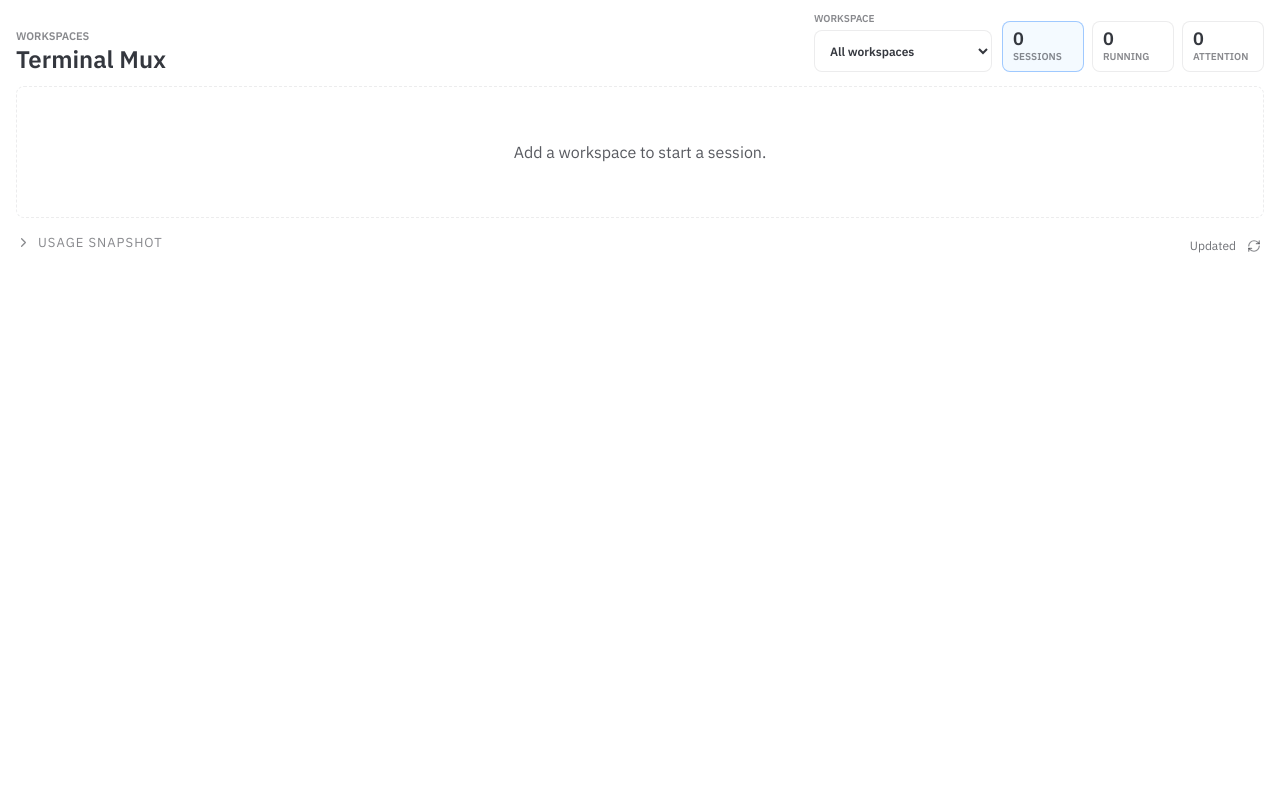
Home › renders expanded token stats and account limits
Expected: the text "Cached tokens" is not shown
Click the button with aria-label "Show usage snapshot" at coordinates (89, 242), box left=16, top=230, right=163, bottom=255
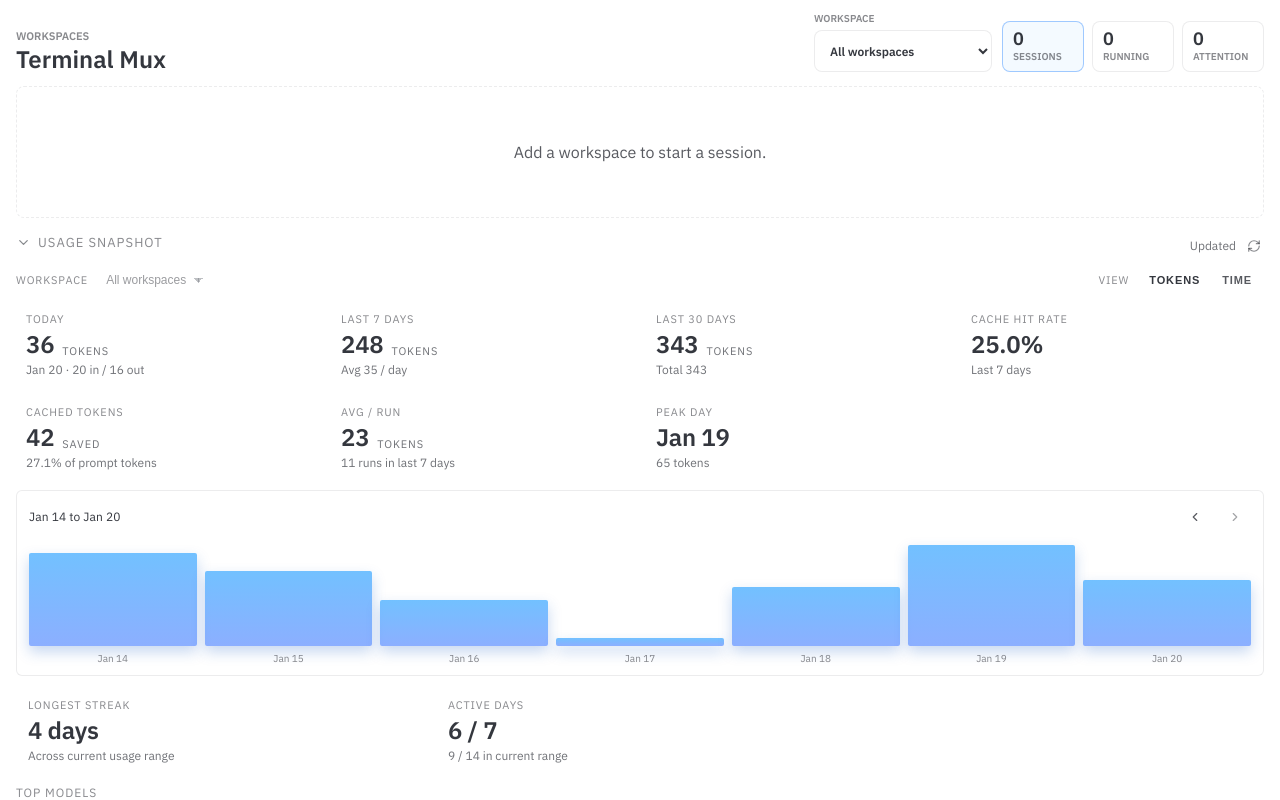
Expected: the text "Cached tokens" is shown, left=26, top=404, right=124, bottom=418
Expected: the text "Avg / run" is shown, left=341, top=404, right=401, bottom=418
Expected: the text "Longest streak" is shown, left=28, top=698, right=130, bottom=712
Click the button named "Show previous week" at coordinates (1195, 516), box left=1179, top=500, right=1211, bottom=532
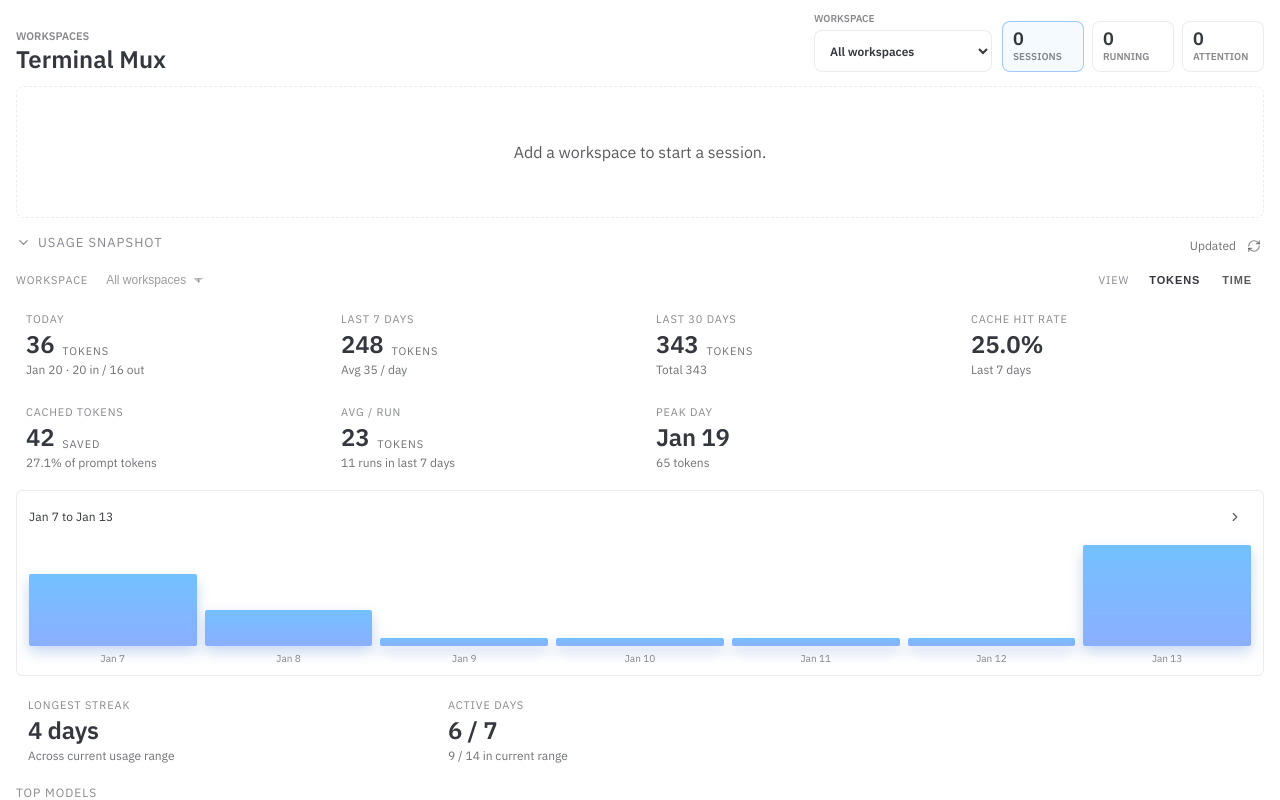
Expected: the text named "Usage week 2026-01-07 to 2026-01-13" is shown, left=29, top=509, right=113, bottom=524
Click the button named "Show next week" at coordinates (1235, 516), box left=1219, top=500, right=1251, bottom=532
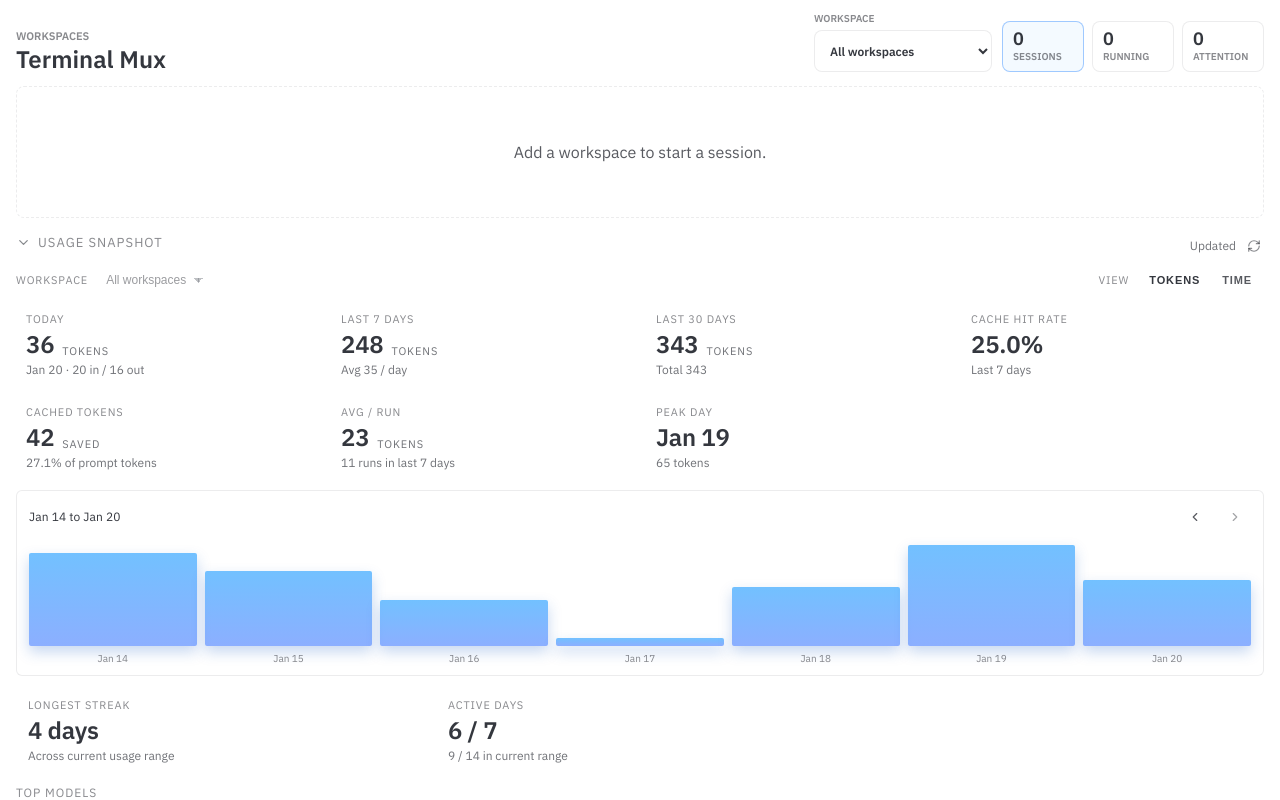
Expected: the text named "Usage week 2026-01-14 to 2026-01-20" is shown, left=29, top=509, right=121, bottom=524
